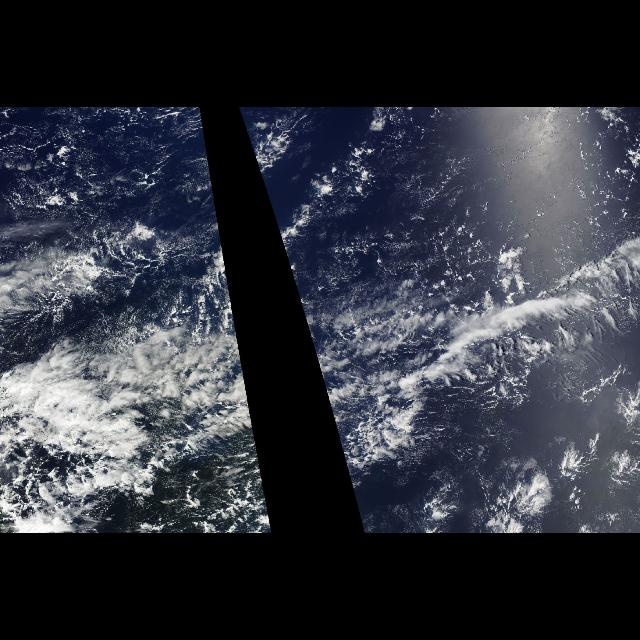Fish: (568, 422, 640, 428)
Flower: (492, 367, 640, 533)
Sugar: (242, 115, 528, 293), (5, 115, 231, 293)
